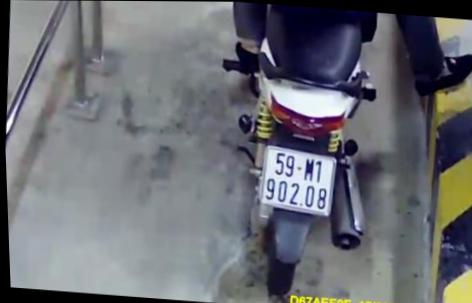LP: (254, 143, 337, 217)
